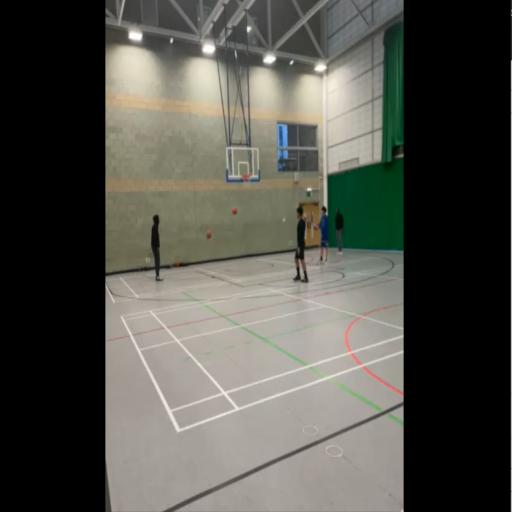hoops: (242, 172, 254, 189)
